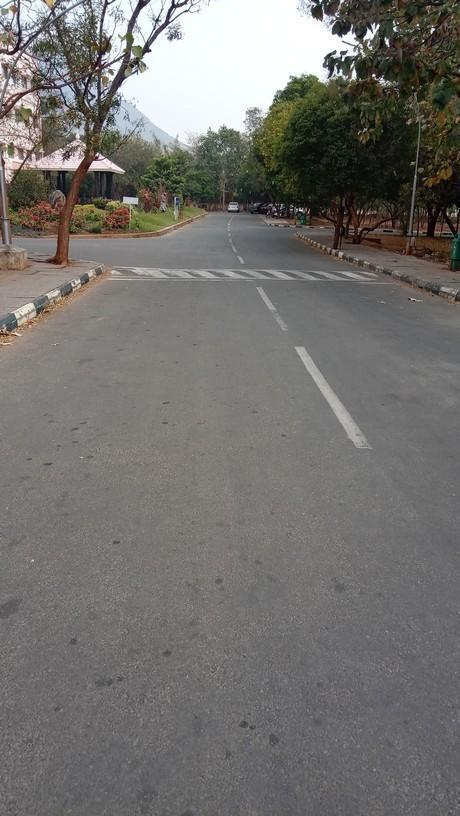speedbreaker: (96, 259, 393, 290)
